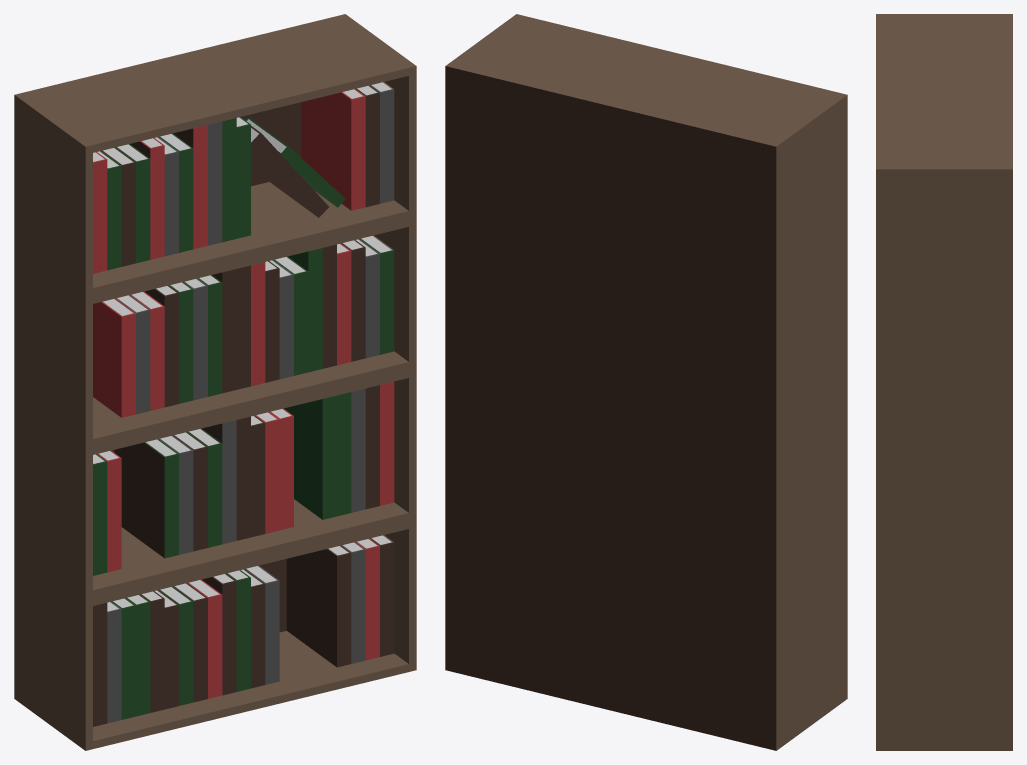
The model's file is BookShelf.fbx.
3 renders of one model, left to right at view 1: azimuth 30°, elevation 25°; view 2: azimuth 150°, elevation 25°; view 3: azimuth 270°, elevation 25°, orthographic. The views are drawn at different scales.
Parts seen in each view (by area): view 1: Cube; view 2: Cube; view 3: Cube.
Part boxes in pixels (<box>): Cube: <box>14,14,416,750</box>; Cube: <box>445,14,847,750</box>; Cube: <box>876,14,1012,750</box>.
Bounding box in the file's own units: 472 × 823 × 176.
